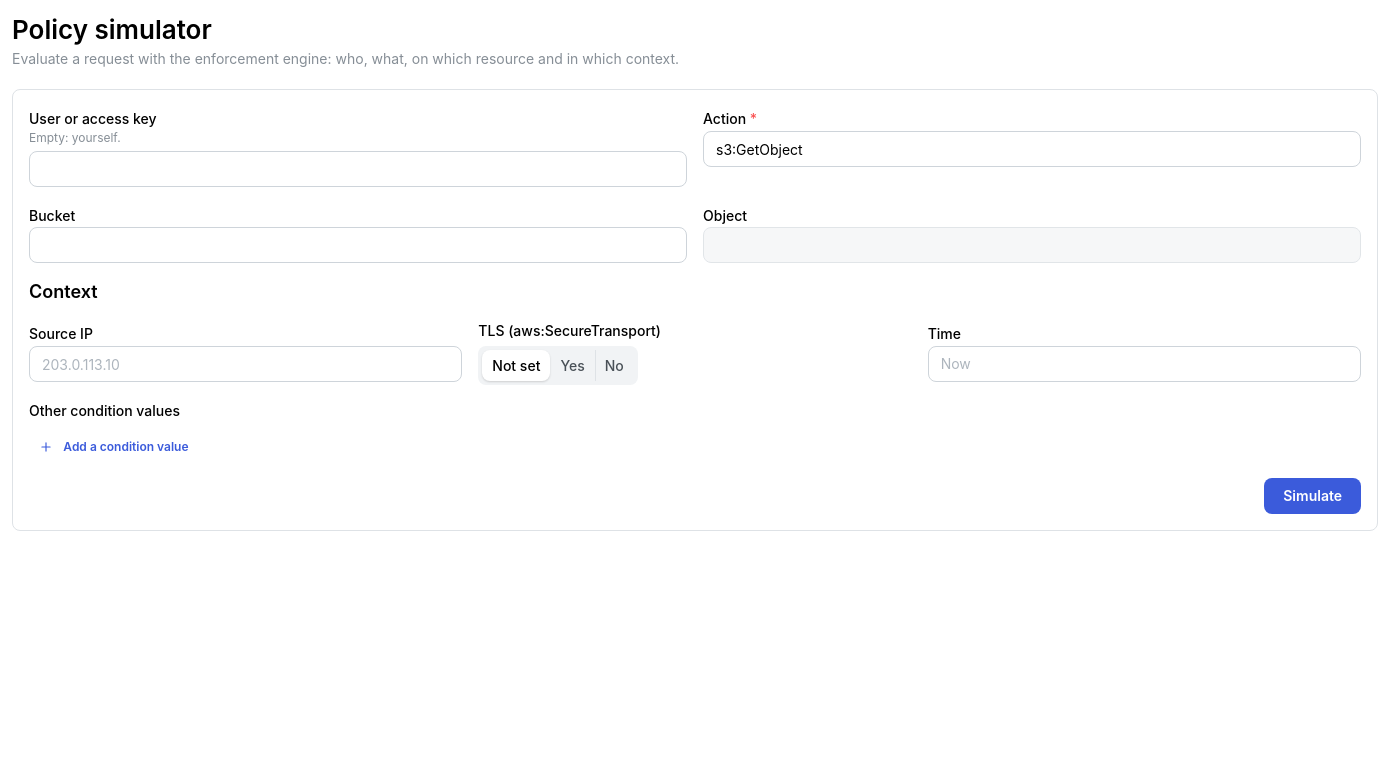
Test: Policy simulator (D-POL-03) › explains an implicit deny
Type "ci-bot" into the field labelled "User or access key".
click(358, 169); type("ci-bot")  # box [29, 151, 687, 187]
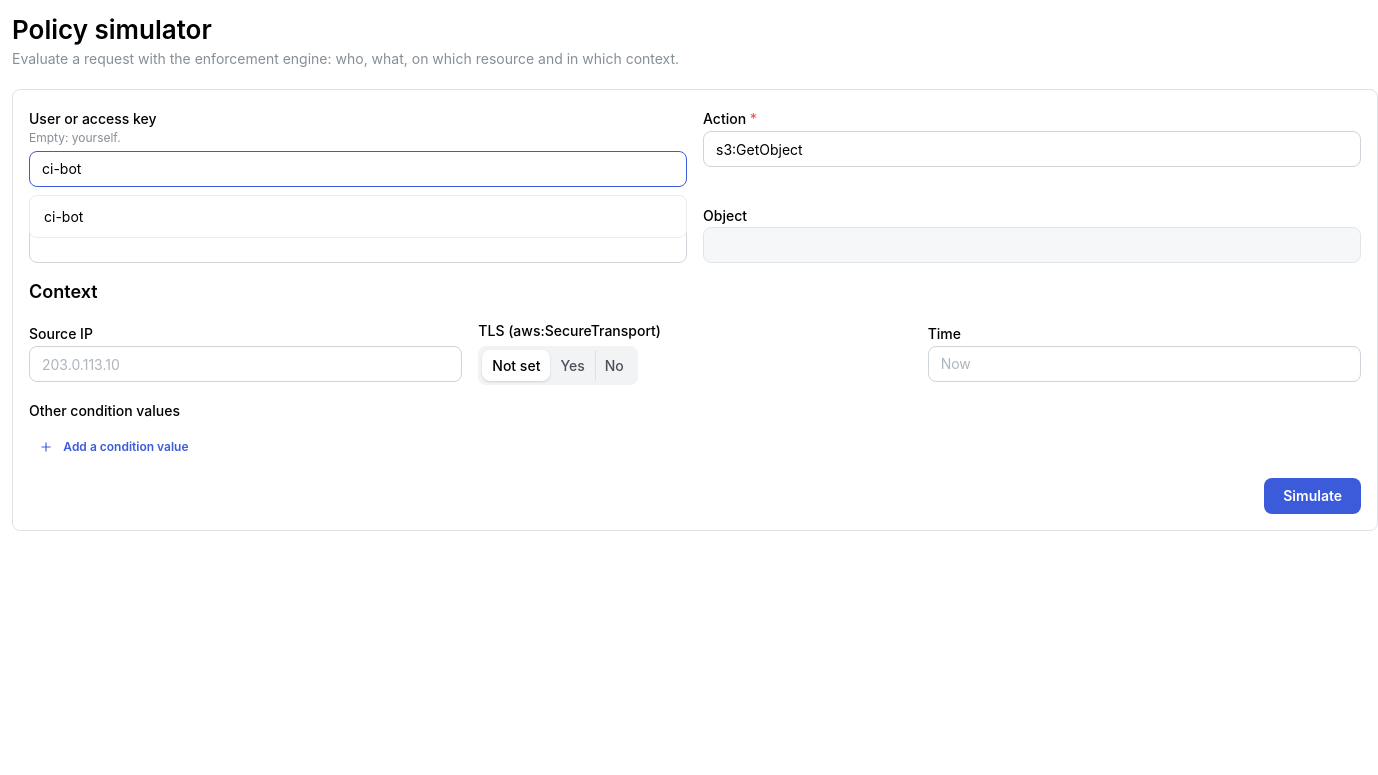
Replace the text in the field labelled "Action *" with "admin:ListUsers" at [1032, 149], box [703, 131, 1361, 167]
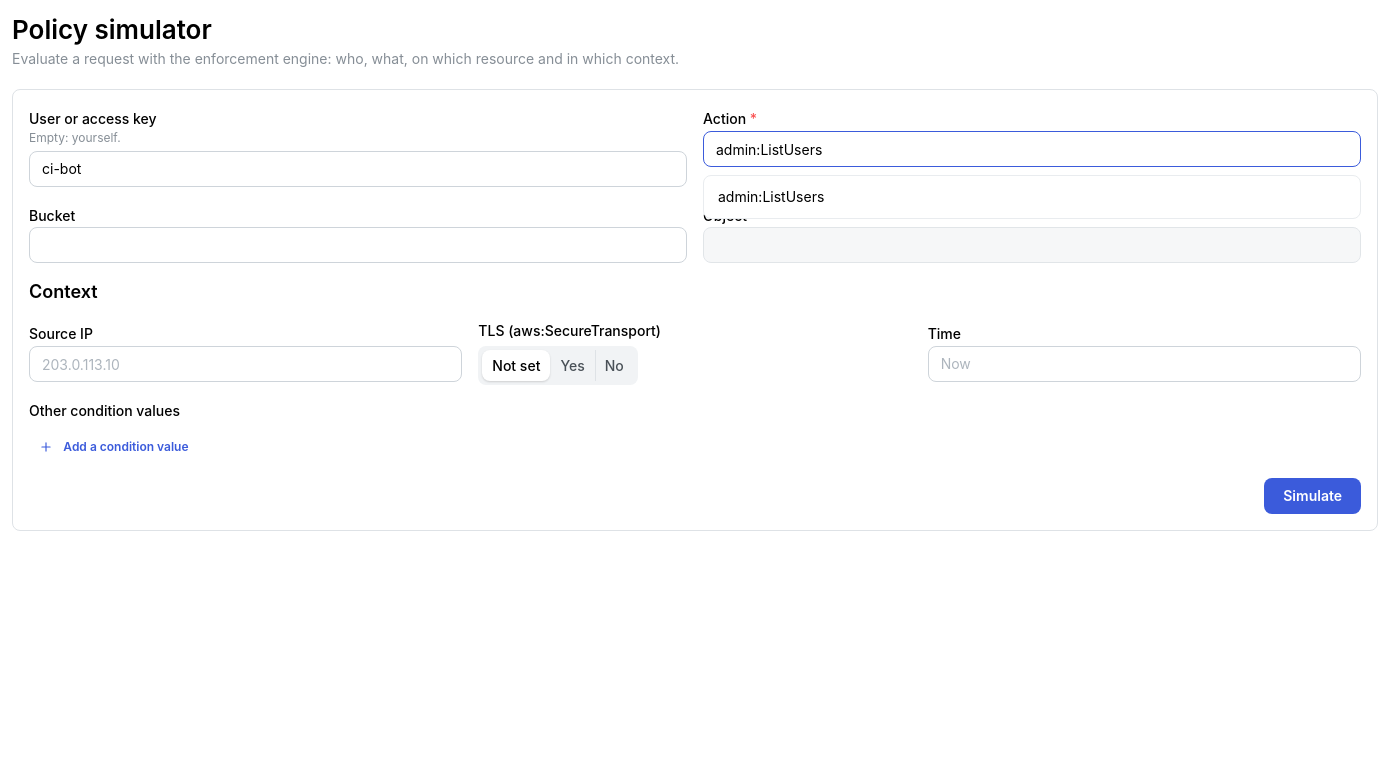
Click the button "Simulate".
click(1313, 496)  # box [1264, 478, 1361, 514]
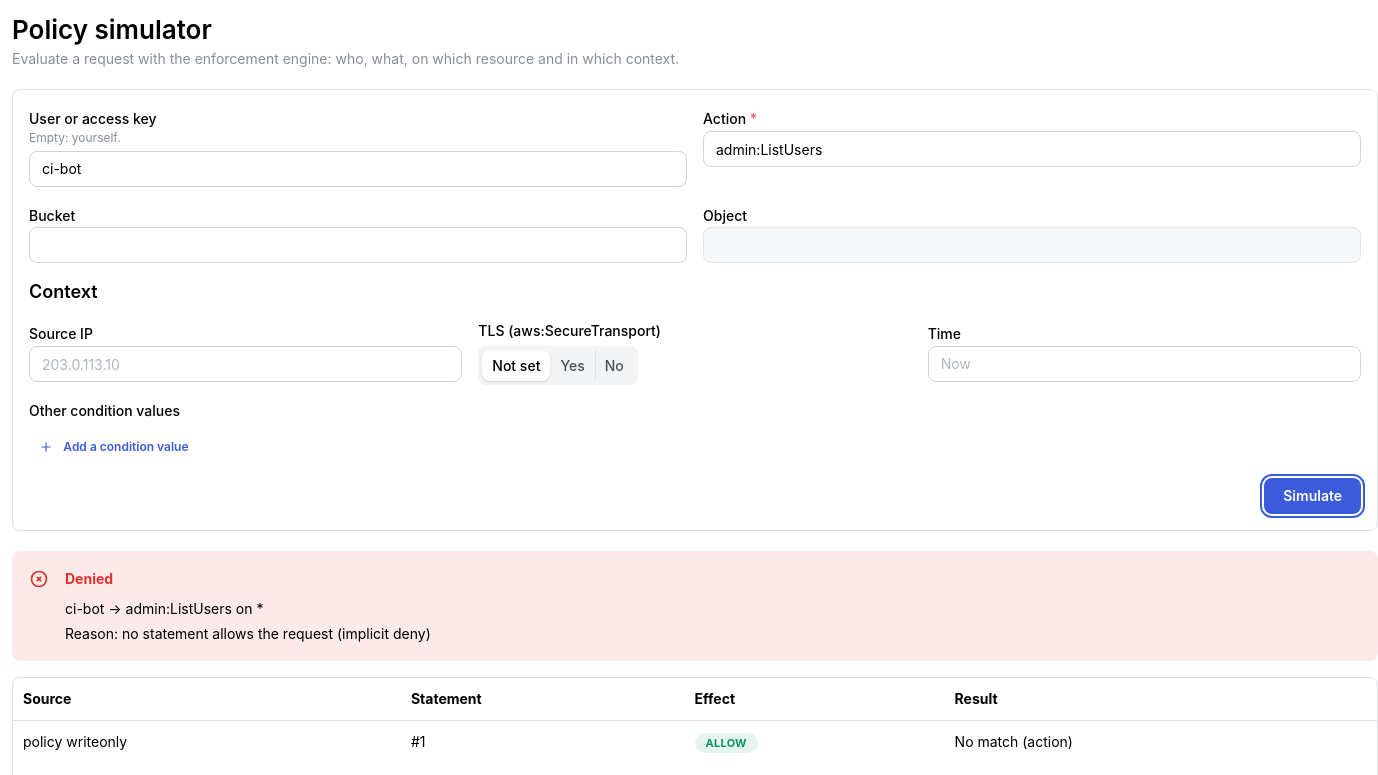
Result: the message shows "Denied" at [65, 570, 113, 587]
Result: the message shows "implicit deny" at [65, 625, 431, 642]
Result: the text "No match (action)" is shown at [945, 720, 1377, 763]
